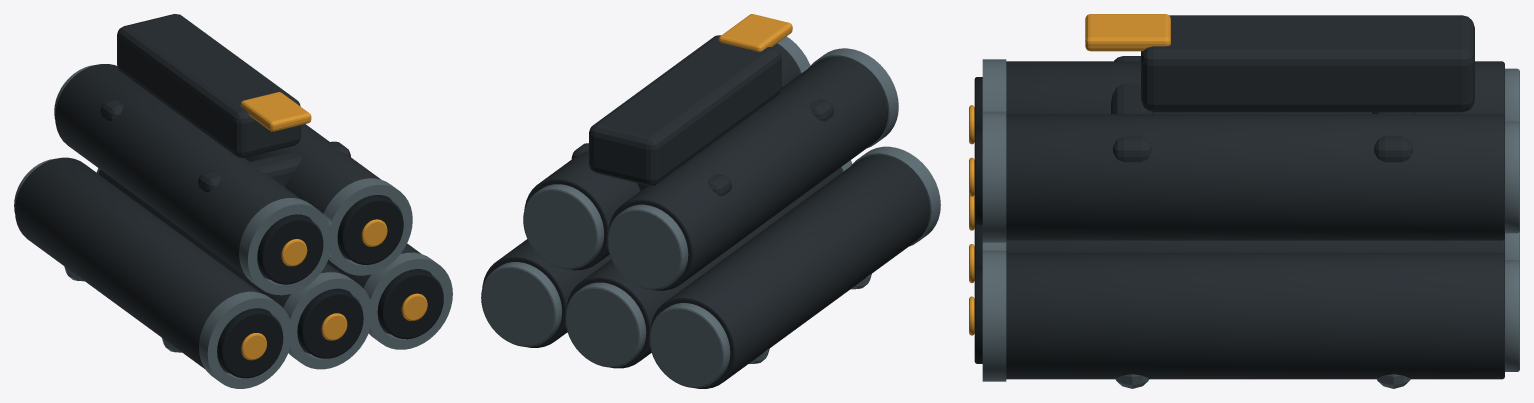
File: micro_missile_pack.glb
3 renders of one model, left to right at view 1: azimuth 30°, elevation 25°; view 2: azimuth 150°, elevation 25°; view 3: azimuth 270°, elevation 25°, orthographic. The views are drawn at different scales.
Visible parts, largest first — view 1: MissileTube.004, MissileTube.002, SupplyLockRail, TubeFrontRim.004, TubeFrontRim.002, SealedMicroMissileNose.004, SealedMicroMissileNose.002, TubeFrontRim.001, SealedMicroMissileNose.001, AmberPodRelease, PodTopBridge, MissileTube.001 (+3 smaller); view 2: MissileTube.004, MissileTube.002, SupplyLockRail, TubeRearSeal.004, TubeRearSeal.002, TubeRearSeal.001, MissileTube.001, TubeFrontRim.004, AmberPodRelease, TubeFrontRim.002, PodTopBridge.001, PodTopBridge; view 3: MissileTube.004, MissileTube.002, SupplyLockRail, MissileTube.001, TubeFrontRim.004, TubeFrontRim.002, AmberPodRelease, TubeRearSeal.004, PodTopBridge, TubeRearSeal.002, SealedMicroMissileNose.004, PodTopBridge.001 (+1 smaller).
Part boxes in pixels (<box>): MissileTube.004: <box>55,64,392,279</box>; MissileTube.002: <box>15,157,433,373</box>; SupplyLockRail: <box>117,14,300,157</box>; TubeFrontRim.004: <box>239,178,412,295</box>; TubeFrontRim.002: <box>199,252,452,388</box>; SealedMicroMissileNose.004: <box>257,195,403,284</box>; SealedMicroMissileNose.002: <box>217,269,443,378</box>; TubeFrontRim.001: <box>283,272,372,369</box>; SealedMicroMissileNose.001: <box>297,288,363,358</box>; AmberPodRelease: <box>240,92,311,131</box>; PodTopBridge: <box>198,141,350,192</box>; MissileTube.001: <box>98,169,352,353</box>; MissileTube.004: <box>524,44,887,290</box>; MissileTube.002: <box>482,155,930,388</box>; SupplyLockRail: <box>589,35,781,185</box>; TubeRearSeal.004: <box>523,184,688,289</box>; TubeRearSeal.002: <box>481,262,730,387</box>; TubeRearSeal.001: <box>565,282,646,367</box>; MissileTube.001: <box>566,168,842,368</box>; TubeFrontRim.004: <box>777,36,898,148</box>; AmberPodRelease: <box>718,14,792,51</box>; TubeFrontRim.002: <box>850,146,940,246</box>; PodTopBridge.001: <box>571,143,731,196</box>; PodTopBridge: <box>780,90,833,121</box>; MissileTube.004: <box>1006,61,1504,240</box>; MissileTube.002: <box>1006,252,1504,379</box>; SupplyLockRail: <box>1141,15,1474,112</box>; MissileTube.001: <box>1006,238,1504,254</box>; TubeFrontRim.004: <box>982,59,1006,242</box>; TubeFrontRim.002: <box>982,250,1006,381</box>; AmberPodRelease: <box>1085,14,1170,51</box>; TubeRearSeal.004: <box>1505,68,1519,233</box>; PodTopBridge: <box>1111,56,1153,162</box>; TubeRearSeal.002: <box>1505,260,1519,371</box>; SealedMicroMissileNose.004: <box>974,77,982,225</box>; PodTopBridge.001: <box>1372,112,1414,162</box>.
Bounding box in the file's own units: 0.886 × 0.7675 × 1.29.
